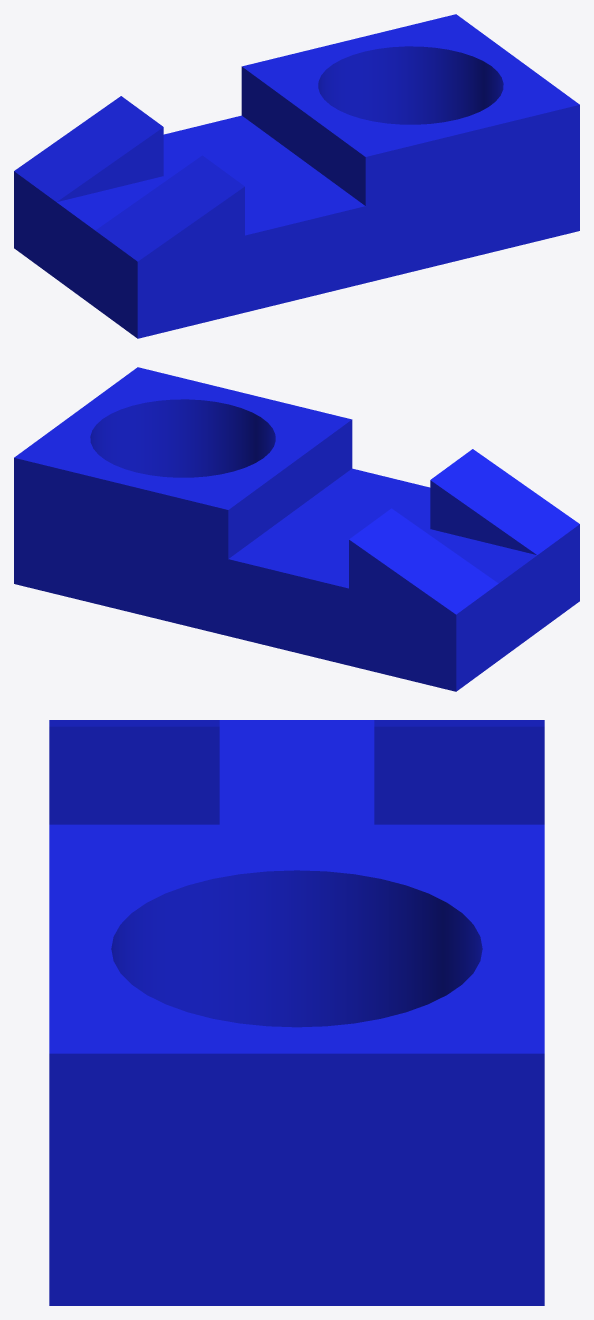
Rendered from asset.glb.
The picture shows the model from 3 angles, top to bottom: view 1: azimuth 30°, elevation 25°; view 2: azimuth 150°, elevation 25°; view 3: azimuth 270°, elevation 25°; orthographic projection. The views are drawn at different scales.
Visible parts, largest first — view 1: Solid2; view 2: Solid2; view 3: Solid2.
Part boxes in pixels (bbox=[...]): Solid2: bbox=[14, 14, 579, 338]; Solid2: bbox=[14, 367, 579, 691]; Solid2: bbox=[49, 720, 544, 1305].
Size of the model in its own units: 0.132 by 0.036 by 0.064.
